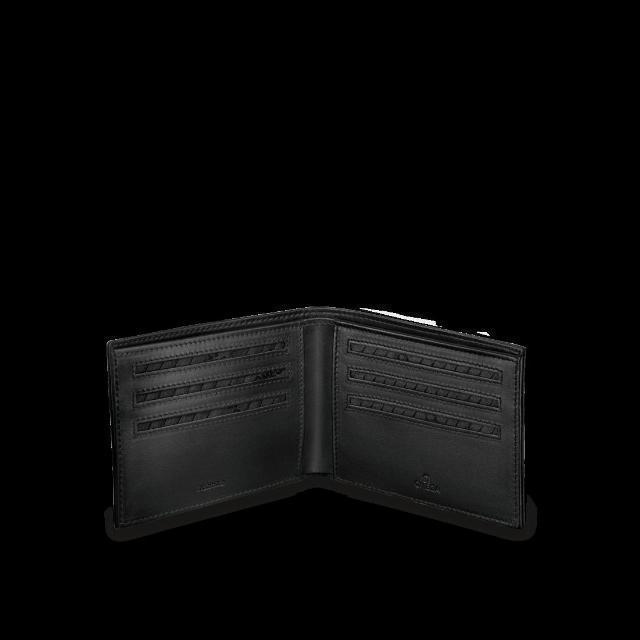wallet: (87, 299, 546, 555)
